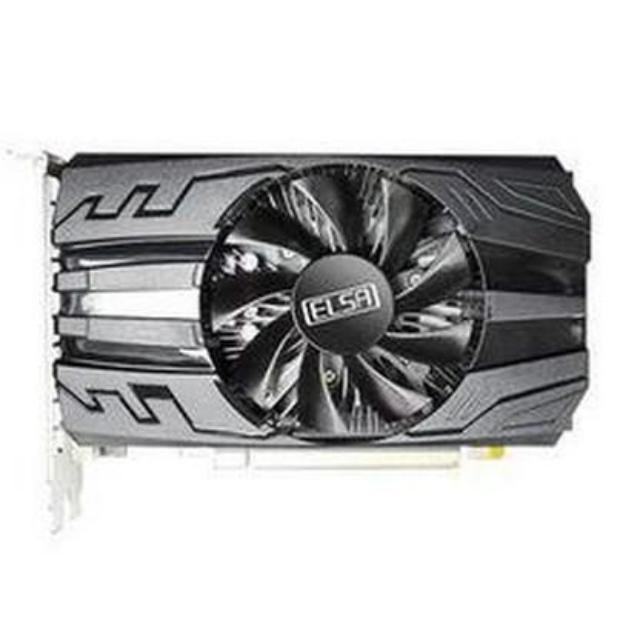GPU: (41, 134, 606, 466)
